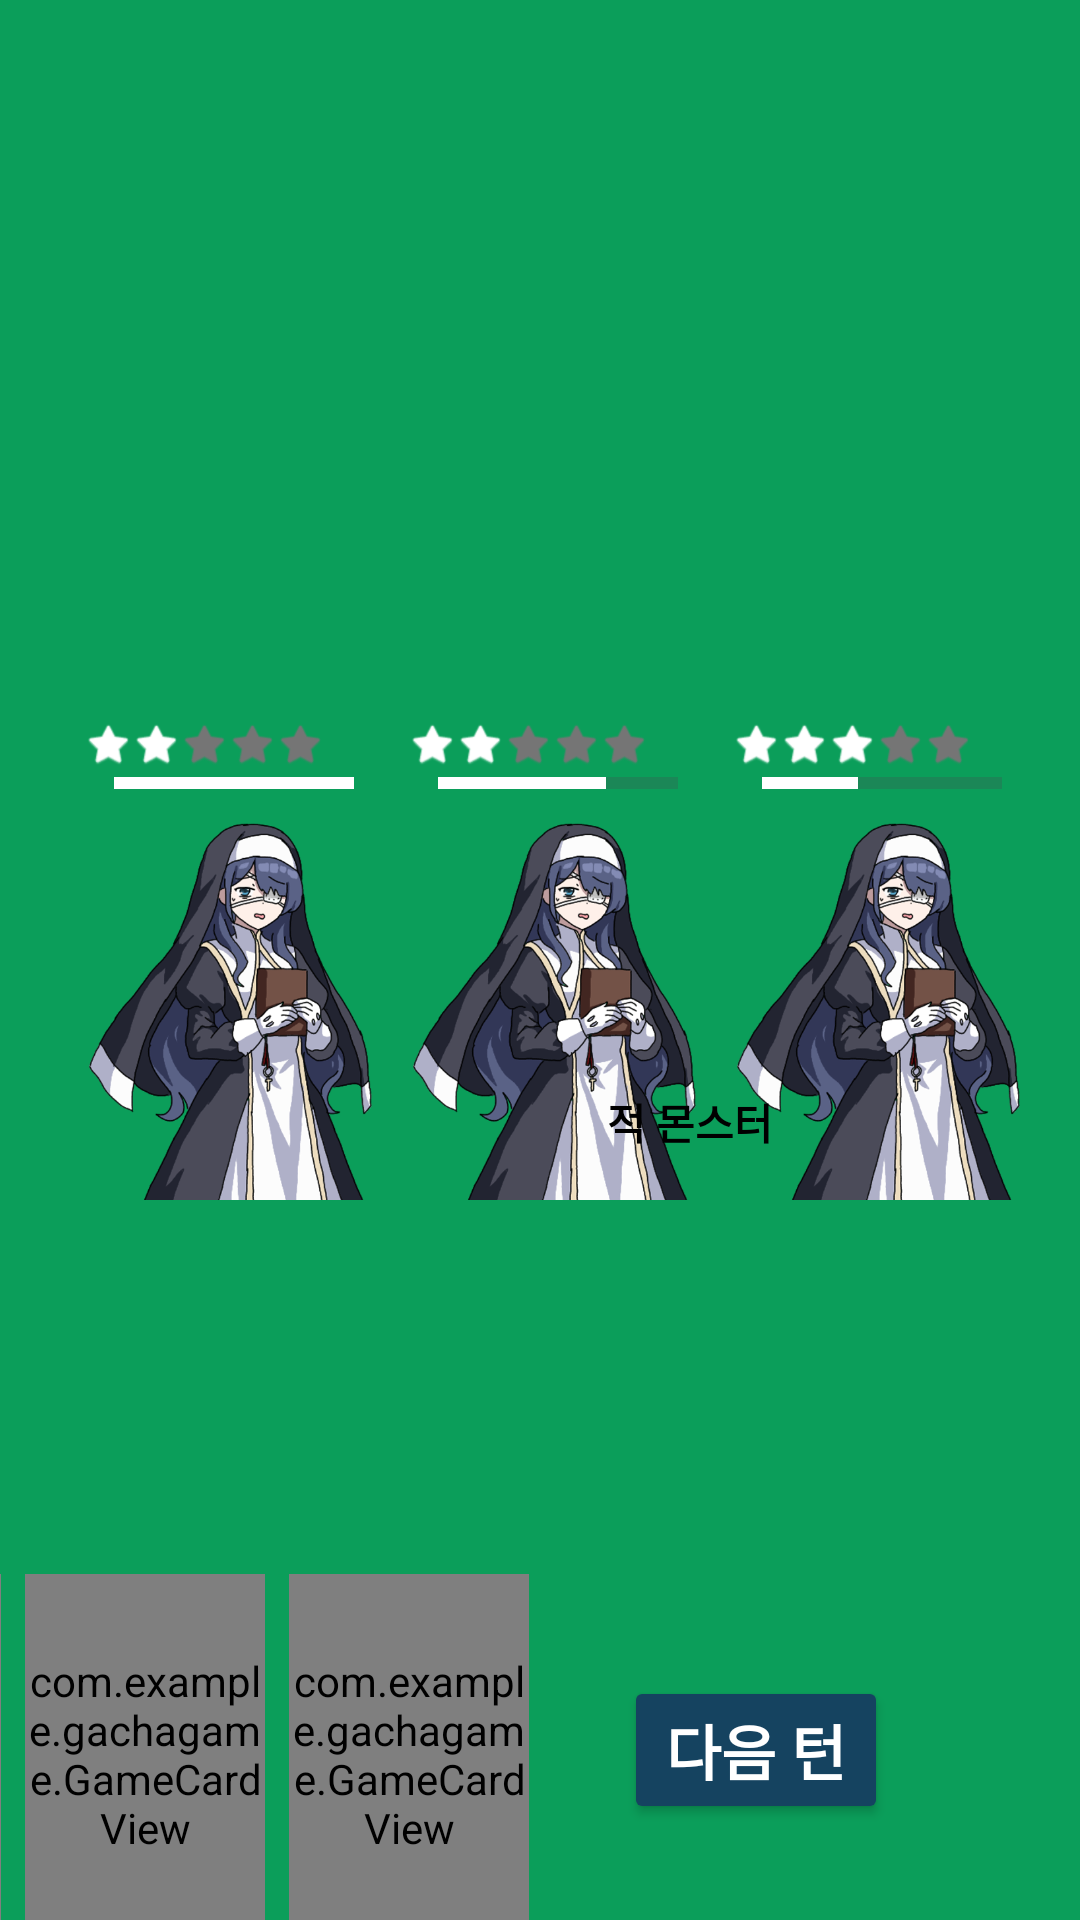

Named icons in this screenshot (1080px x 1920px) and their centers, [x,y]:
star off: [204,744], [252,744], [300,744], [528,744], [576,744], [624,744], [900,744], [948,744]
star on: [108,744], [156,744], [432,744], [480,744], [756,744], [804,744], [852,744]
